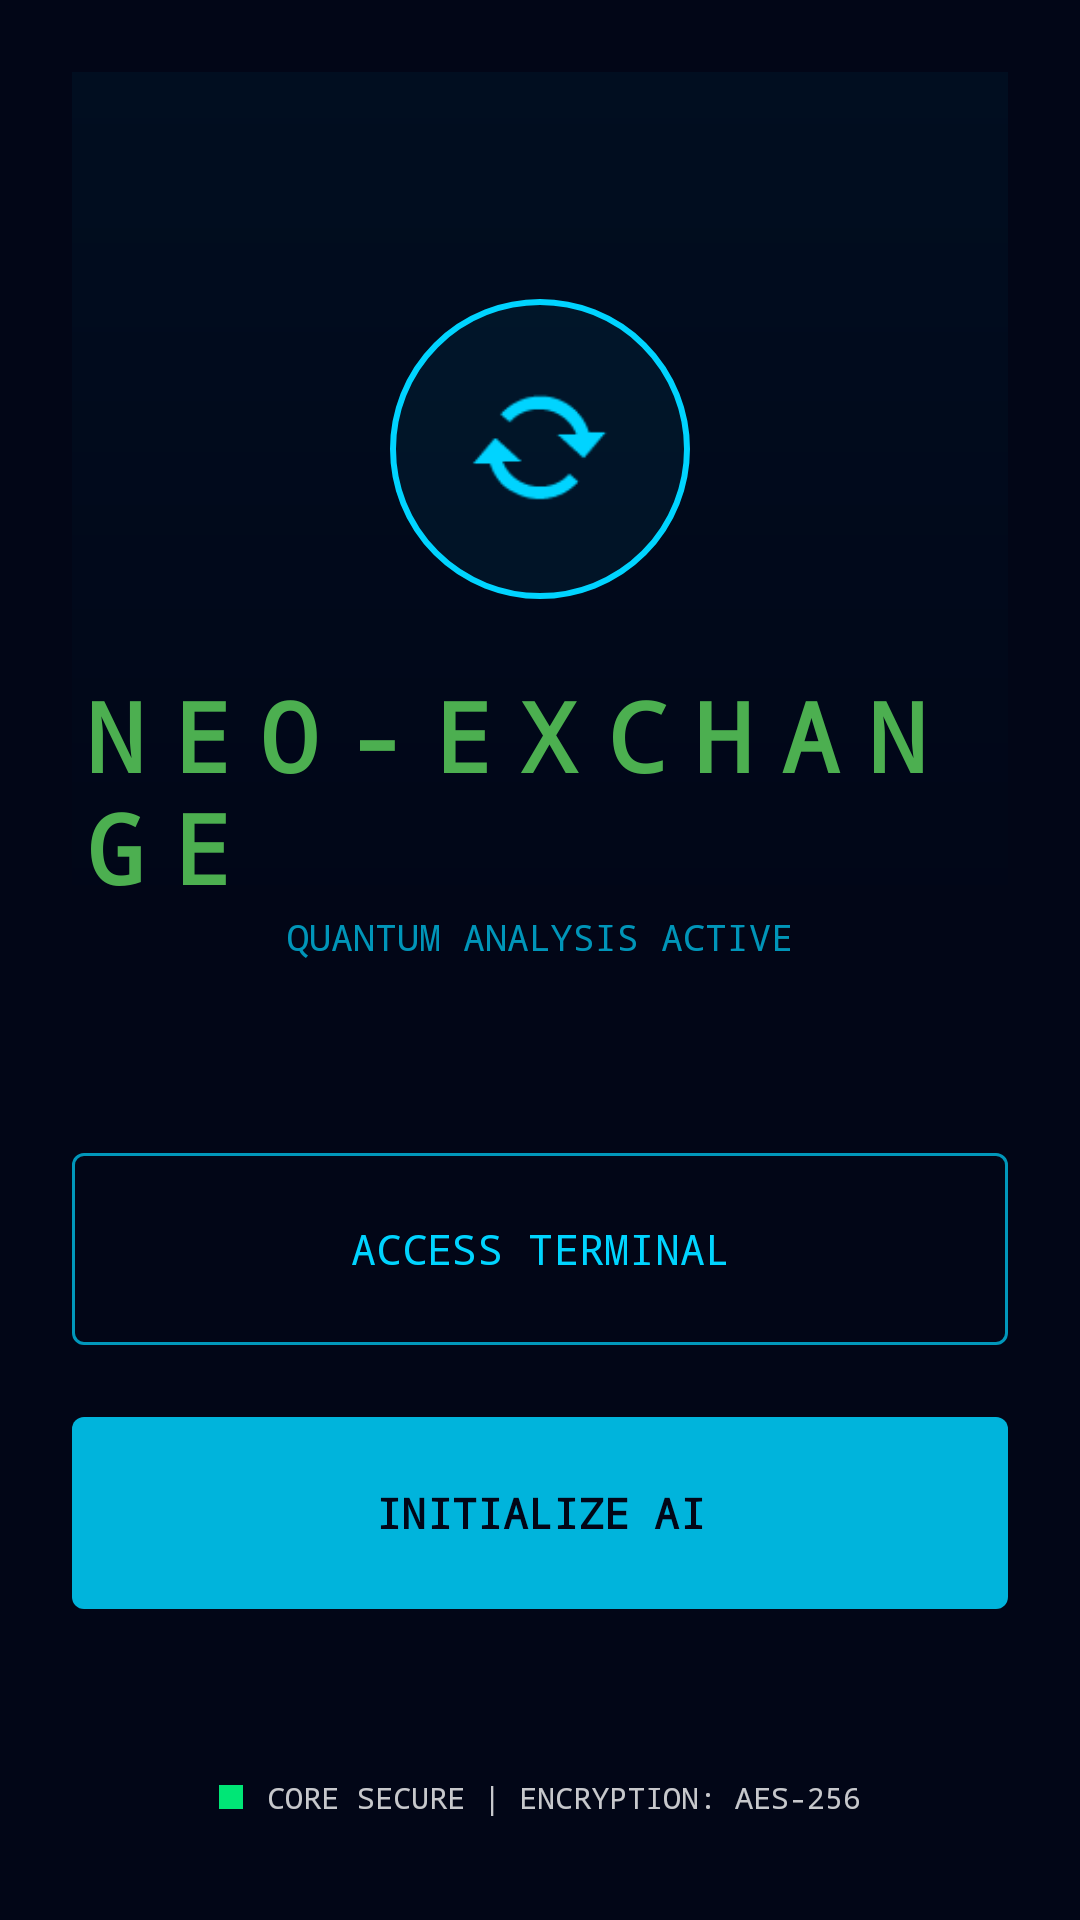

Where icons sit on this 1080*1920 app screen, as (x1, y1, x2, y2):
sync: (473, 395, 606, 500)
